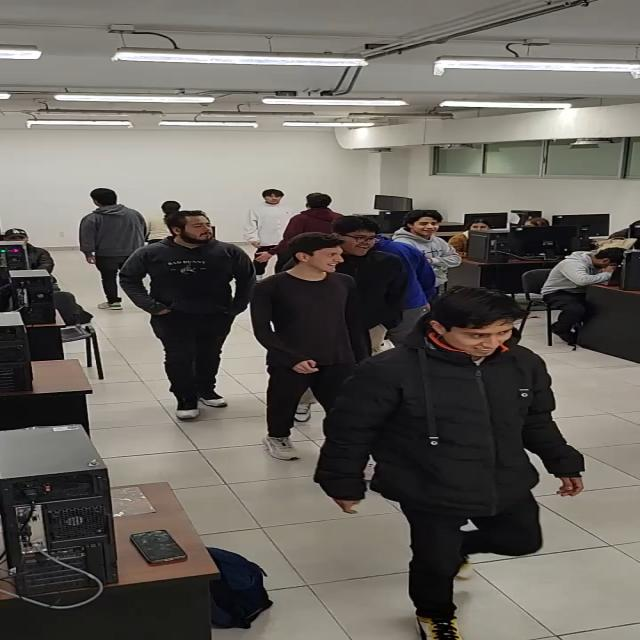Persona: (311, 284, 588, 640), (118, 210, 260, 423), (248, 231, 376, 461), (320, 214, 411, 336), (78, 187, 150, 312), (260, 192, 349, 264), (389, 210, 465, 289), (242, 189, 296, 279)
